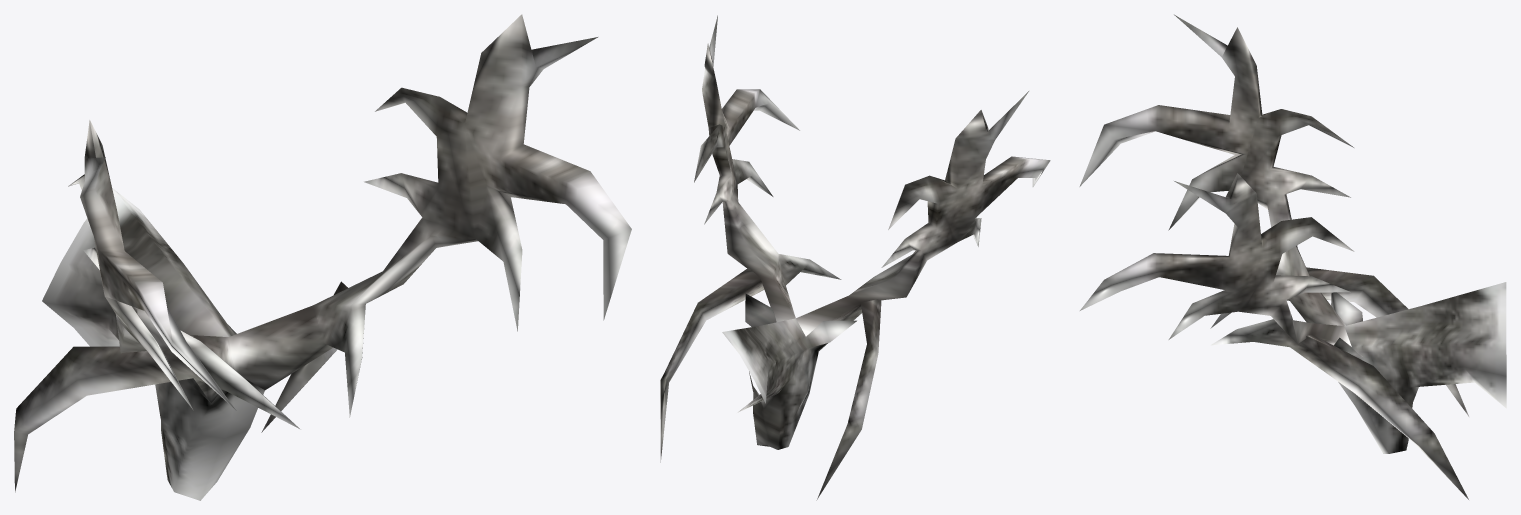
The picture shows the model from 3 angles, left to right: view 1: azimuth 30°, elevation 25°; view 2: azimuth 150°, elevation 25°; view 3: azimuth 270°, elevation 25°; orthographic projection. The views are drawn at different scales.
Parts seen in each view (by area): view 1: model_Object03; view 2: model_Object03; view 3: model_Object03.
Boxes of the visible parts, bbox=[...] form: model_Object03: bbox=[14, 14, 631, 500]; model_Object03: bbox=[660, 15, 1050, 500]; model_Object03: bbox=[1079, 14, 1506, 499].
Size of the model in its own units: 1.78 by 1.81 by 1.94.
Materials: 1 (1 with a texture image).
